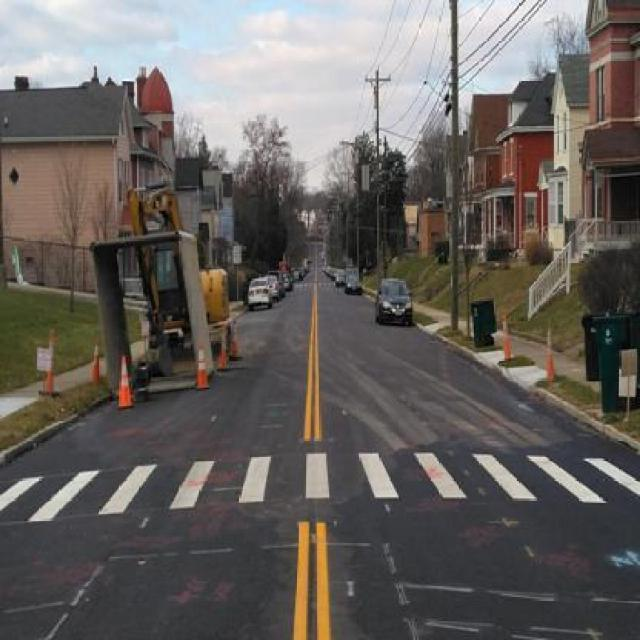Pedestrian crosswalk: (0, 444, 639, 541)
